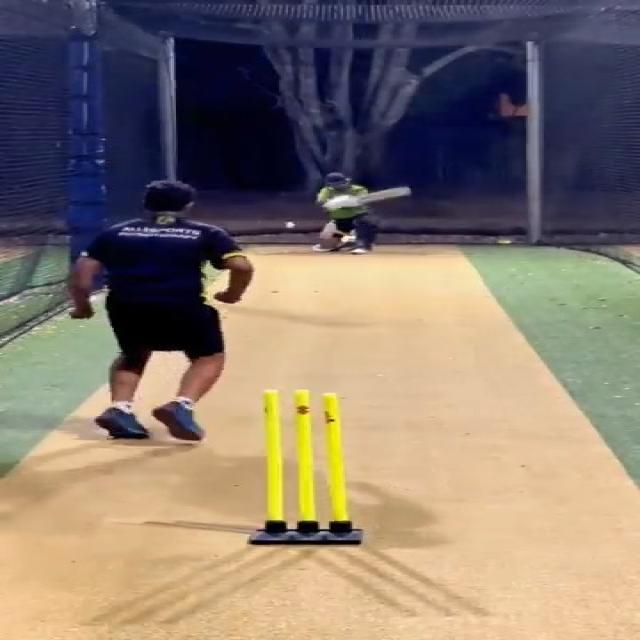ball: (284, 220, 298, 230)
stump: (248, 389, 365, 545)
